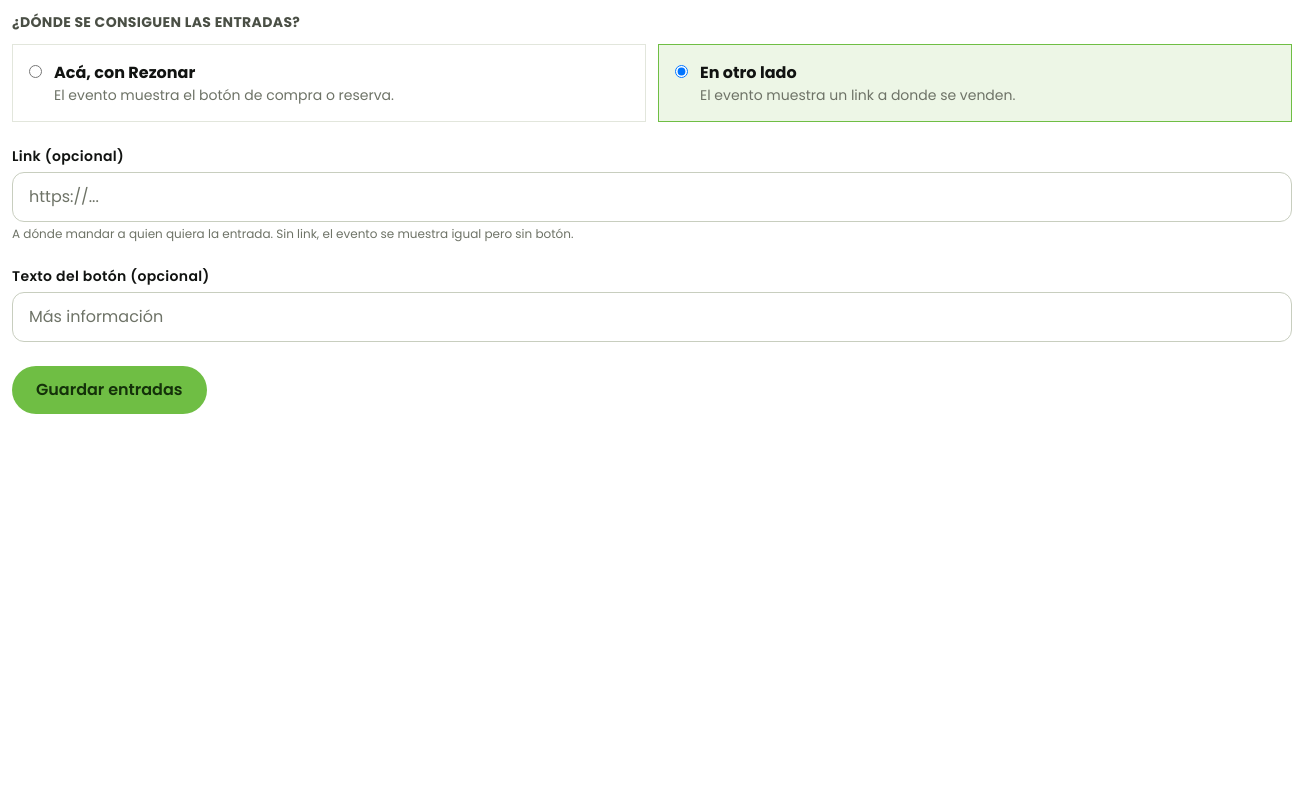
Scenario: PanelEntradas › precio › con precio muestra cómo se va a ver
Click the radio button labelled "Acá, con Rezonar" at (36, 72), box [29, 65, 42, 78]
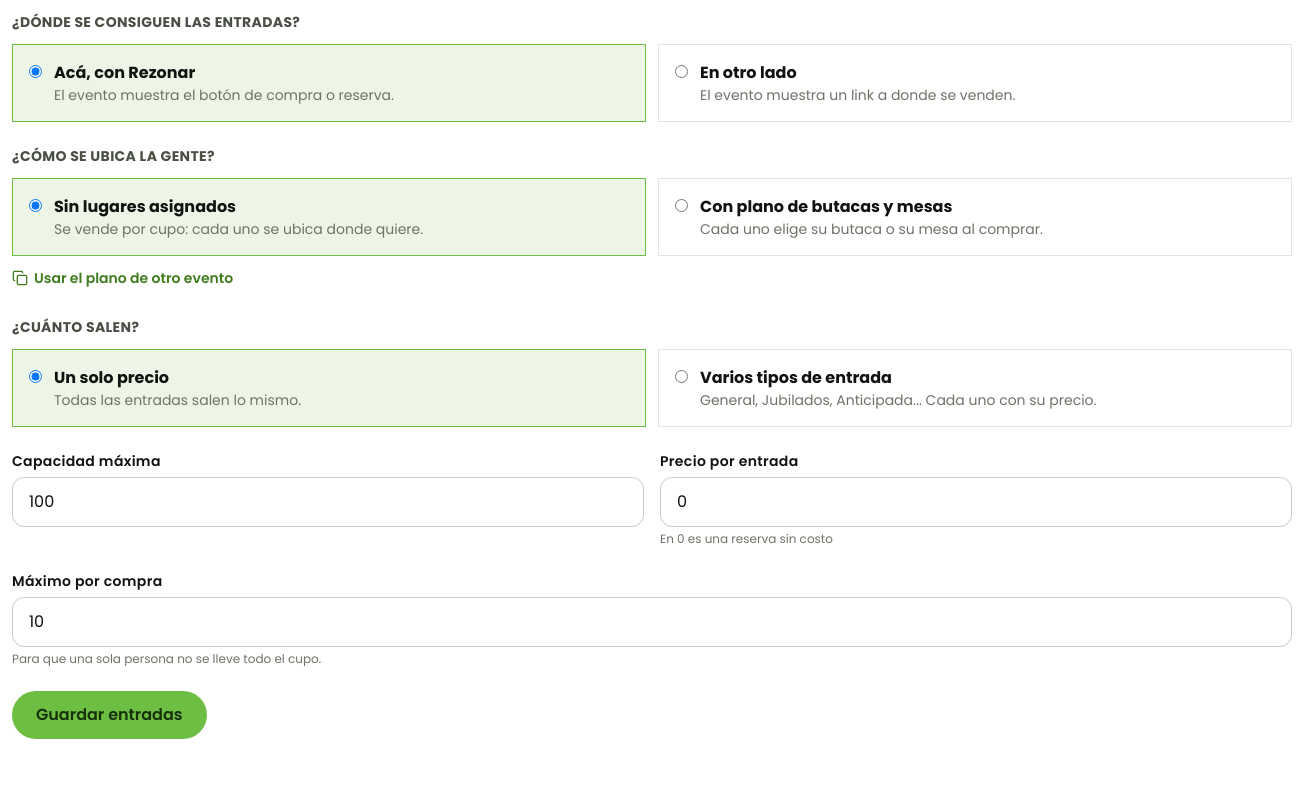
Replace the text in the number field labelled "Precio por entrada" with "1500" at (976, 502), box [660, 477, 1292, 527]
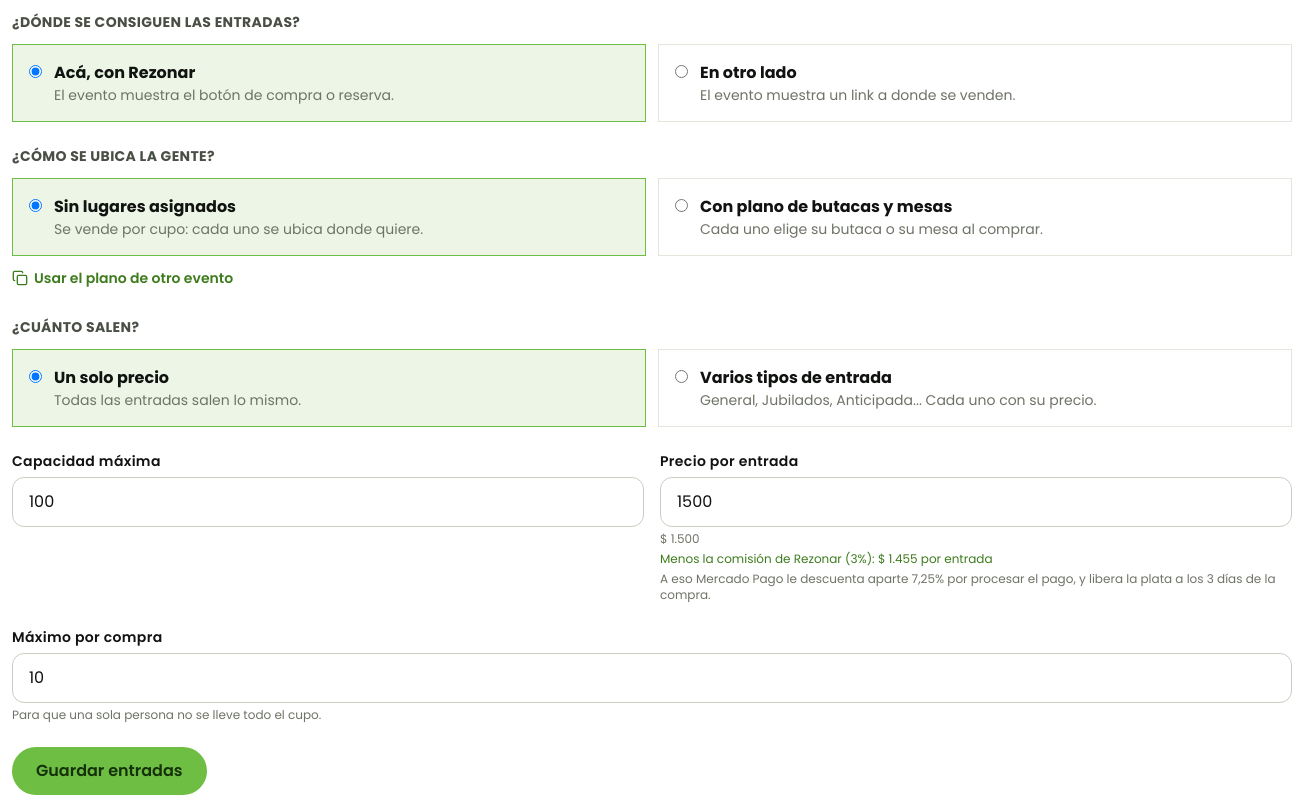
expect the text "$ 1.500" is shown: met, box [660, 530, 700, 547]
